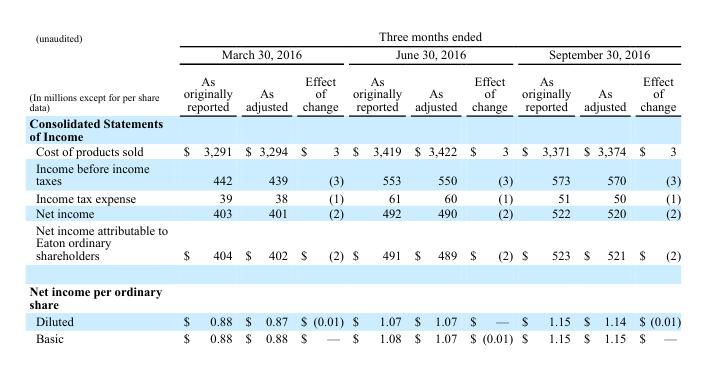table: (28, 29, 680, 345)
table column: (28, 29, 174, 345), (174, 29, 238, 345), (347, 29, 407, 345), (516, 29, 576, 345), (238, 29, 293, 345), (407, 29, 462, 345), (576, 29, 631, 345), (293, 29, 347, 345), (462, 29, 516, 345), (631, 29, 680, 345)
table column header: (28, 29, 680, 114)
table projected row header: (28, 272, 680, 312), (28, 114, 680, 143)
table row: (28, 221, 680, 272), (28, 67, 680, 114), (28, 272, 680, 312), (28, 114, 680, 143), (28, 159, 680, 188), (28, 45, 680, 67), (28, 188, 680, 205), (28, 312, 680, 329), (28, 29, 680, 45), (28, 143, 680, 159), (28, 205, 680, 221), (28, 329, 680, 345)
table spanning cell: (28, 29, 174, 114), (174, 29, 680, 45), (174, 45, 347, 67), (347, 45, 516, 67), (516, 45, 680, 67)
